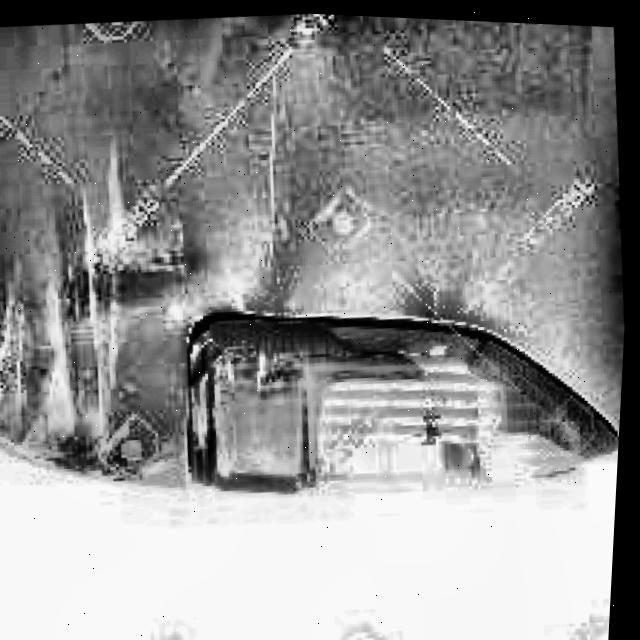tail_lamp: (178, 296, 601, 516)
